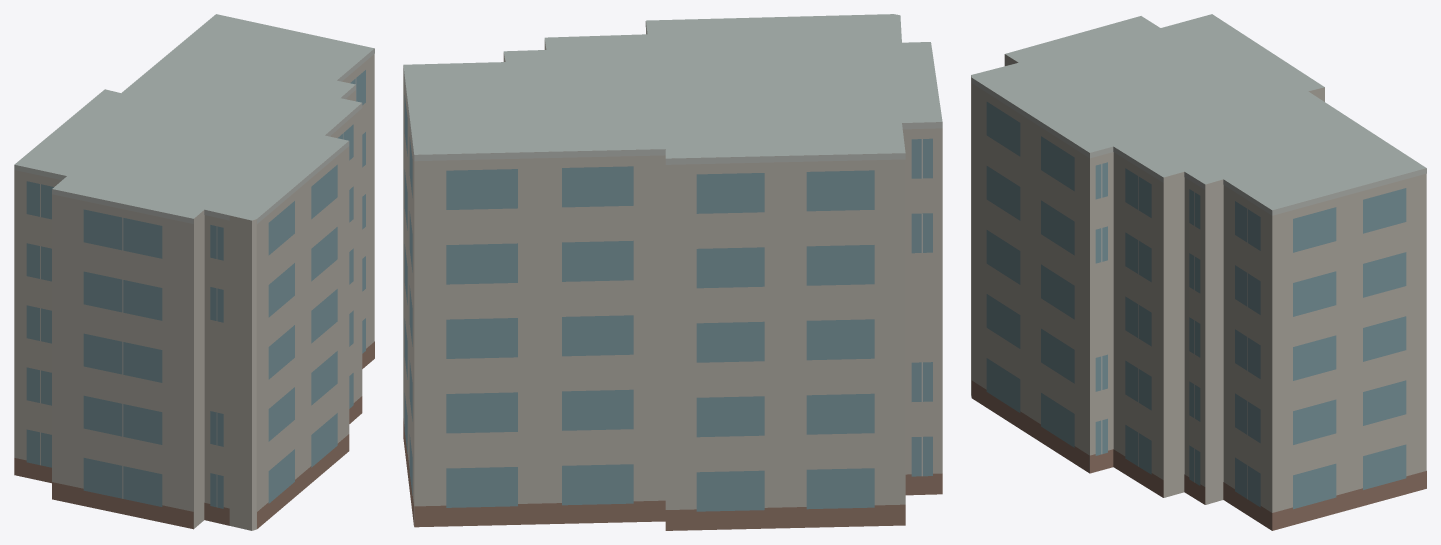
The model's file is survey-upis-32710822.glb.
3 renders of one model, left to right at view 1: azimuth 30°, elevation 25°; view 2: azimuth 150°, elevation 25°; view 3: azimuth 270°, elevation 25°, orthographic. The views are drawn at different scales.
Parts seen in each view (by area): view 1: survey-upis-32710822.tmp; view 2: survey-upis-32710822.tmp; view 3: survey-upis-32710822.tmp.
Boxes of the visible parts, x1,y1,x2,y2 form: survey-upis-32710822.tmp: [14, 14, 374, 530]; survey-upis-32710822.tmp: [403, 14, 942, 530]; survey-upis-32710822.tmp: [971, 14, 1426, 530].
Size of the model in its own units: 18.79 by 14.3 by 18.43.
